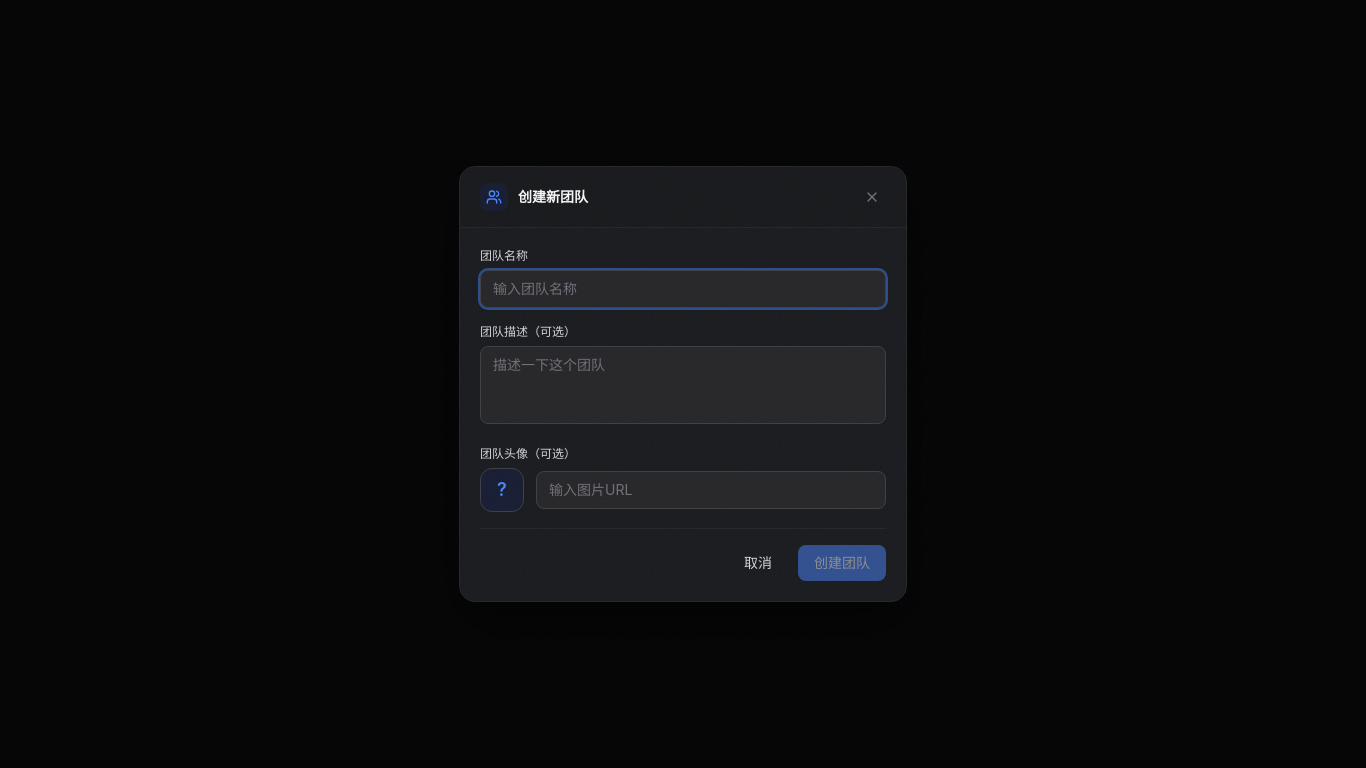
Test case: CreateTeamModal › disables submit button during loading
In the field with placeholder "输入团队名称": [683, 289] box [480,270,886,308], type "My Team"
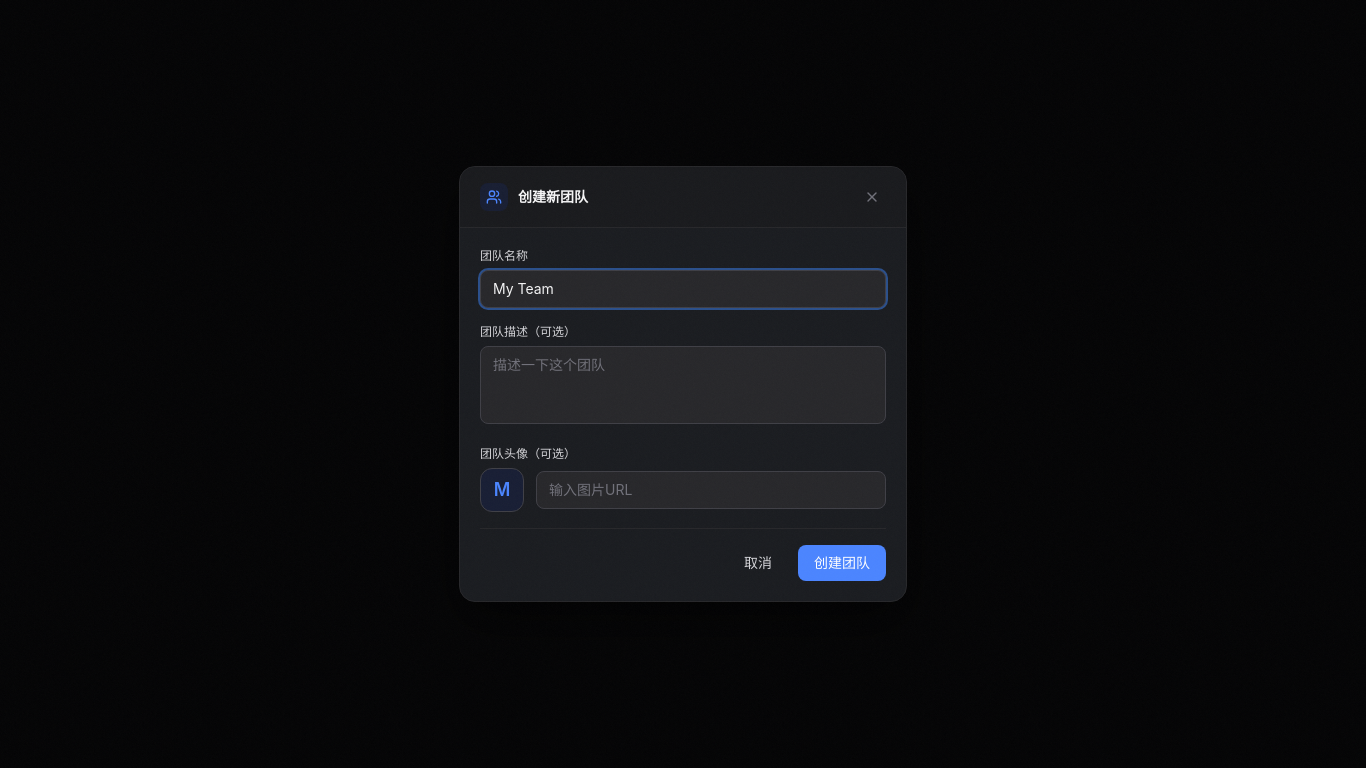
Click the button "创建团队": [842, 563] box [798,545,886,581]
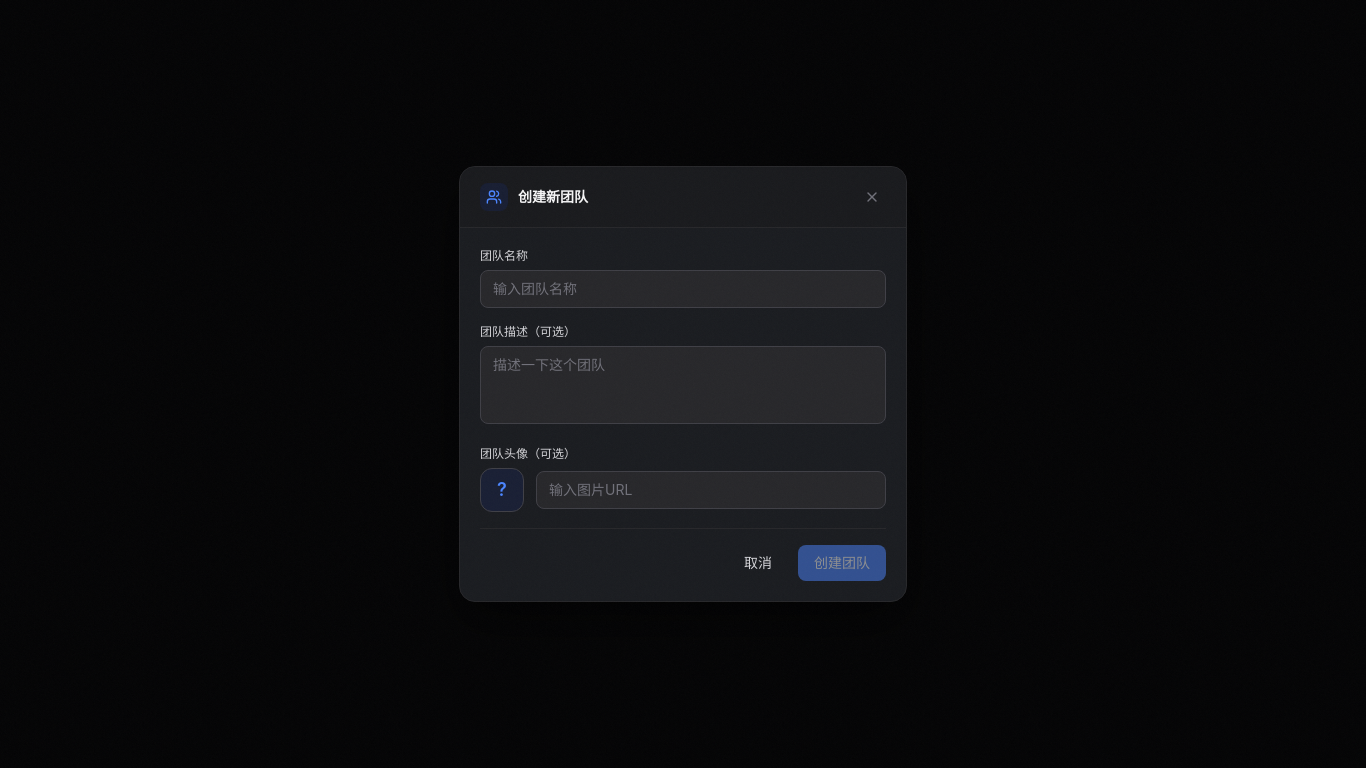
Check: the button "创建中..." is disabled, box [798,545,886,581]
